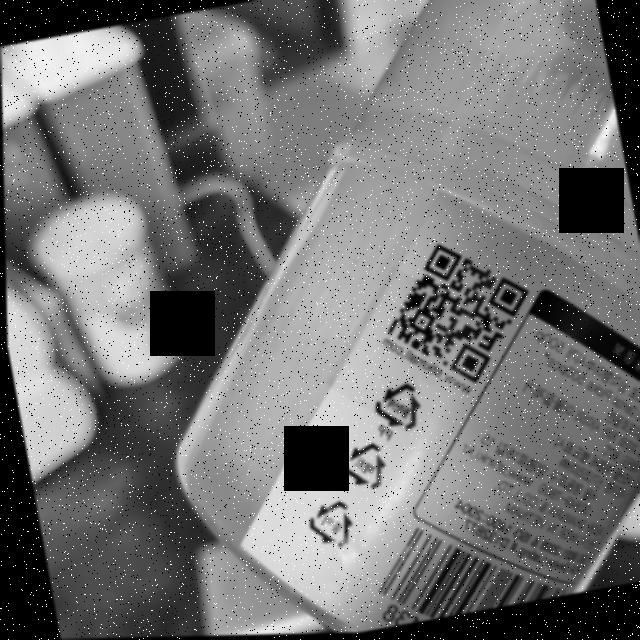PET: (334, 441, 388, 496)
Paper: (303, 496, 357, 555)
Plastic: (366, 381, 423, 434)
